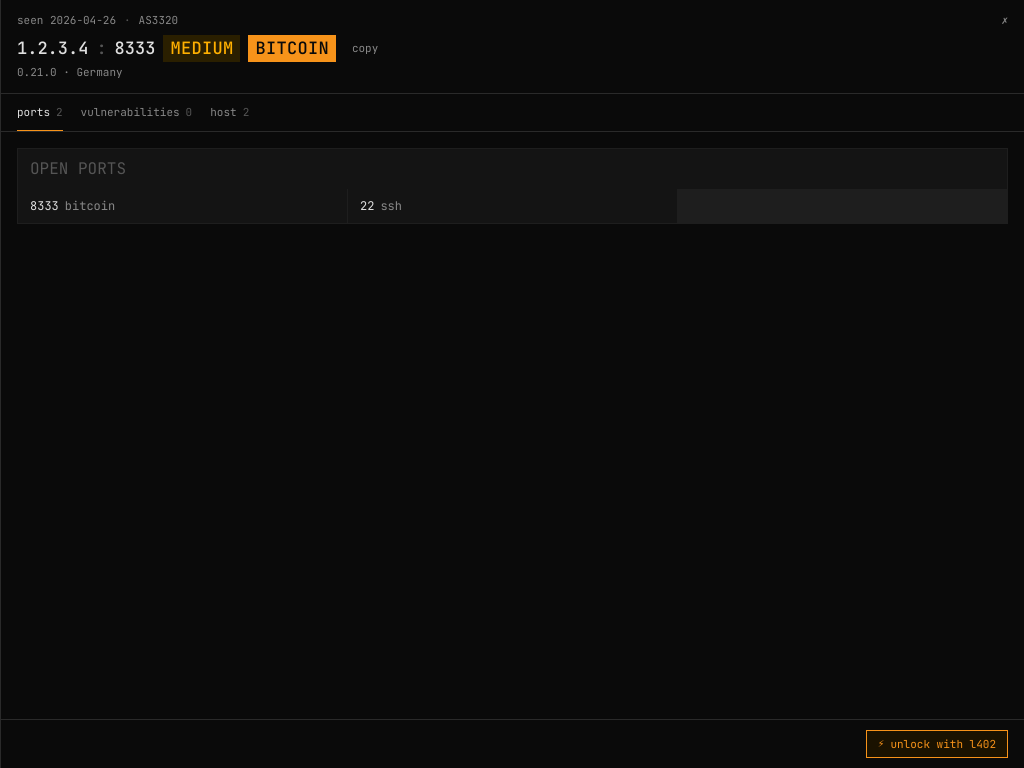
Test: NodeDetailDrawer › L402 button click reaches fetchL402Example and surfaces the challenge note
Step 1. Click the button with test id "drawer-l402-button" → (937, 744), box x1=866 y1=730 x2=1008 y2=758
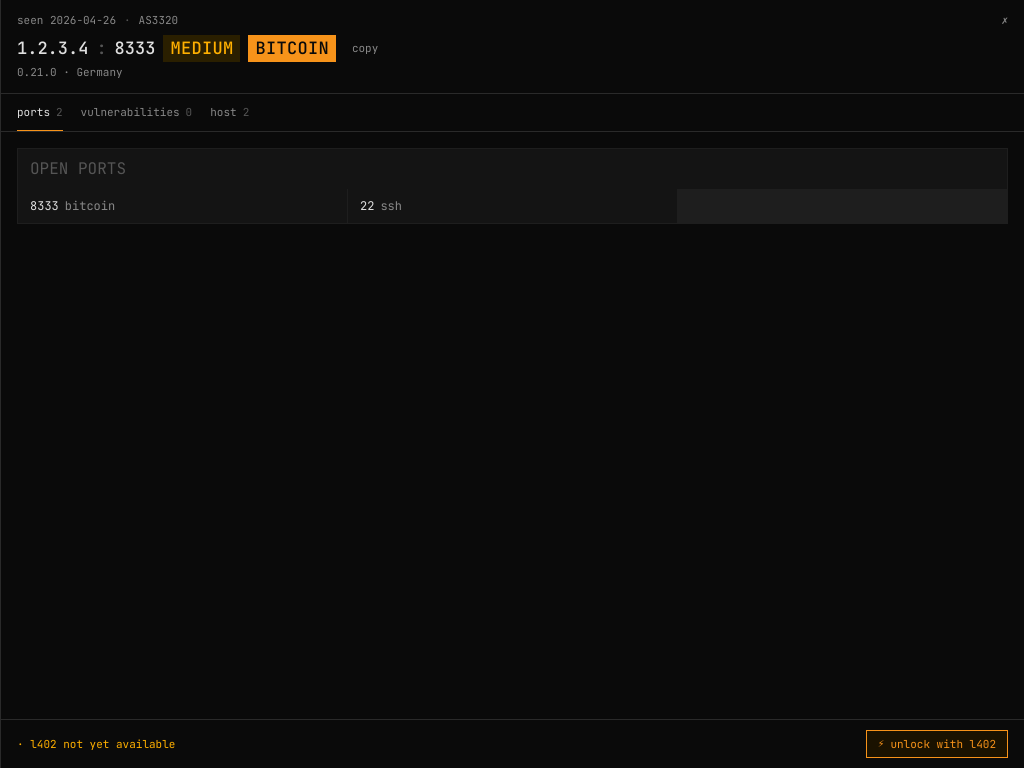
Check: the message with test id "drawer-l402-note" shows "l402 not yet available", box x1=17 y1=736 x2=175 y2=750
